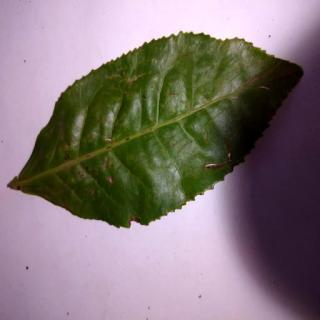Bird Eye Spot: (10, 32, 306, 229)
